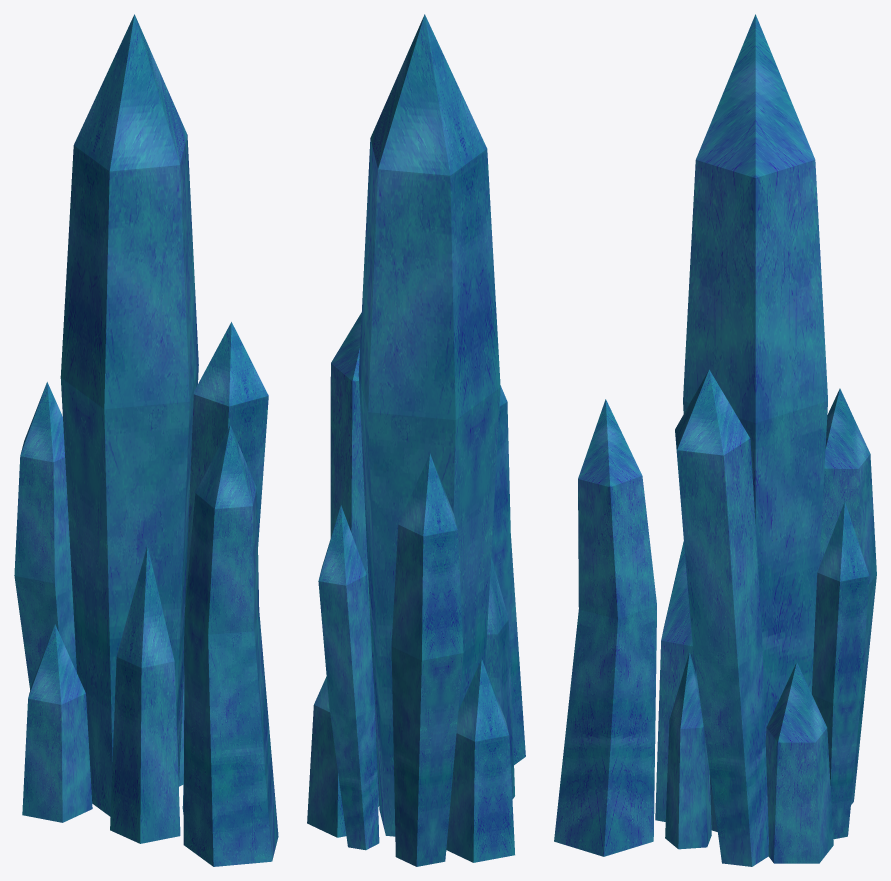
Rendered from Crystals2.DAE.
3 renders of one model, left to right at view 1: azimuth 30°, elevation 25°; view 2: azimuth 150°, elevation 25°; view 3: azimuth 270°, elevation 25°, orthographic. The views are drawn at different scales.
Parts seen in each view (by area): view 1: Cylinder002; view 2: Cylinder002; view 3: Cylinder002.
Part boxes in pixels (box(x1,y1,x2,y2)): Cylinder002: box(14, 14, 278, 866); Cylinder002: box(307, 14, 525, 866); Cylinder002: box(554, 14, 876, 866).
Size of the model in its own units: 0.5459 by 0.7173 by 1.98.
Materials: 1 (1 with a texture image).
